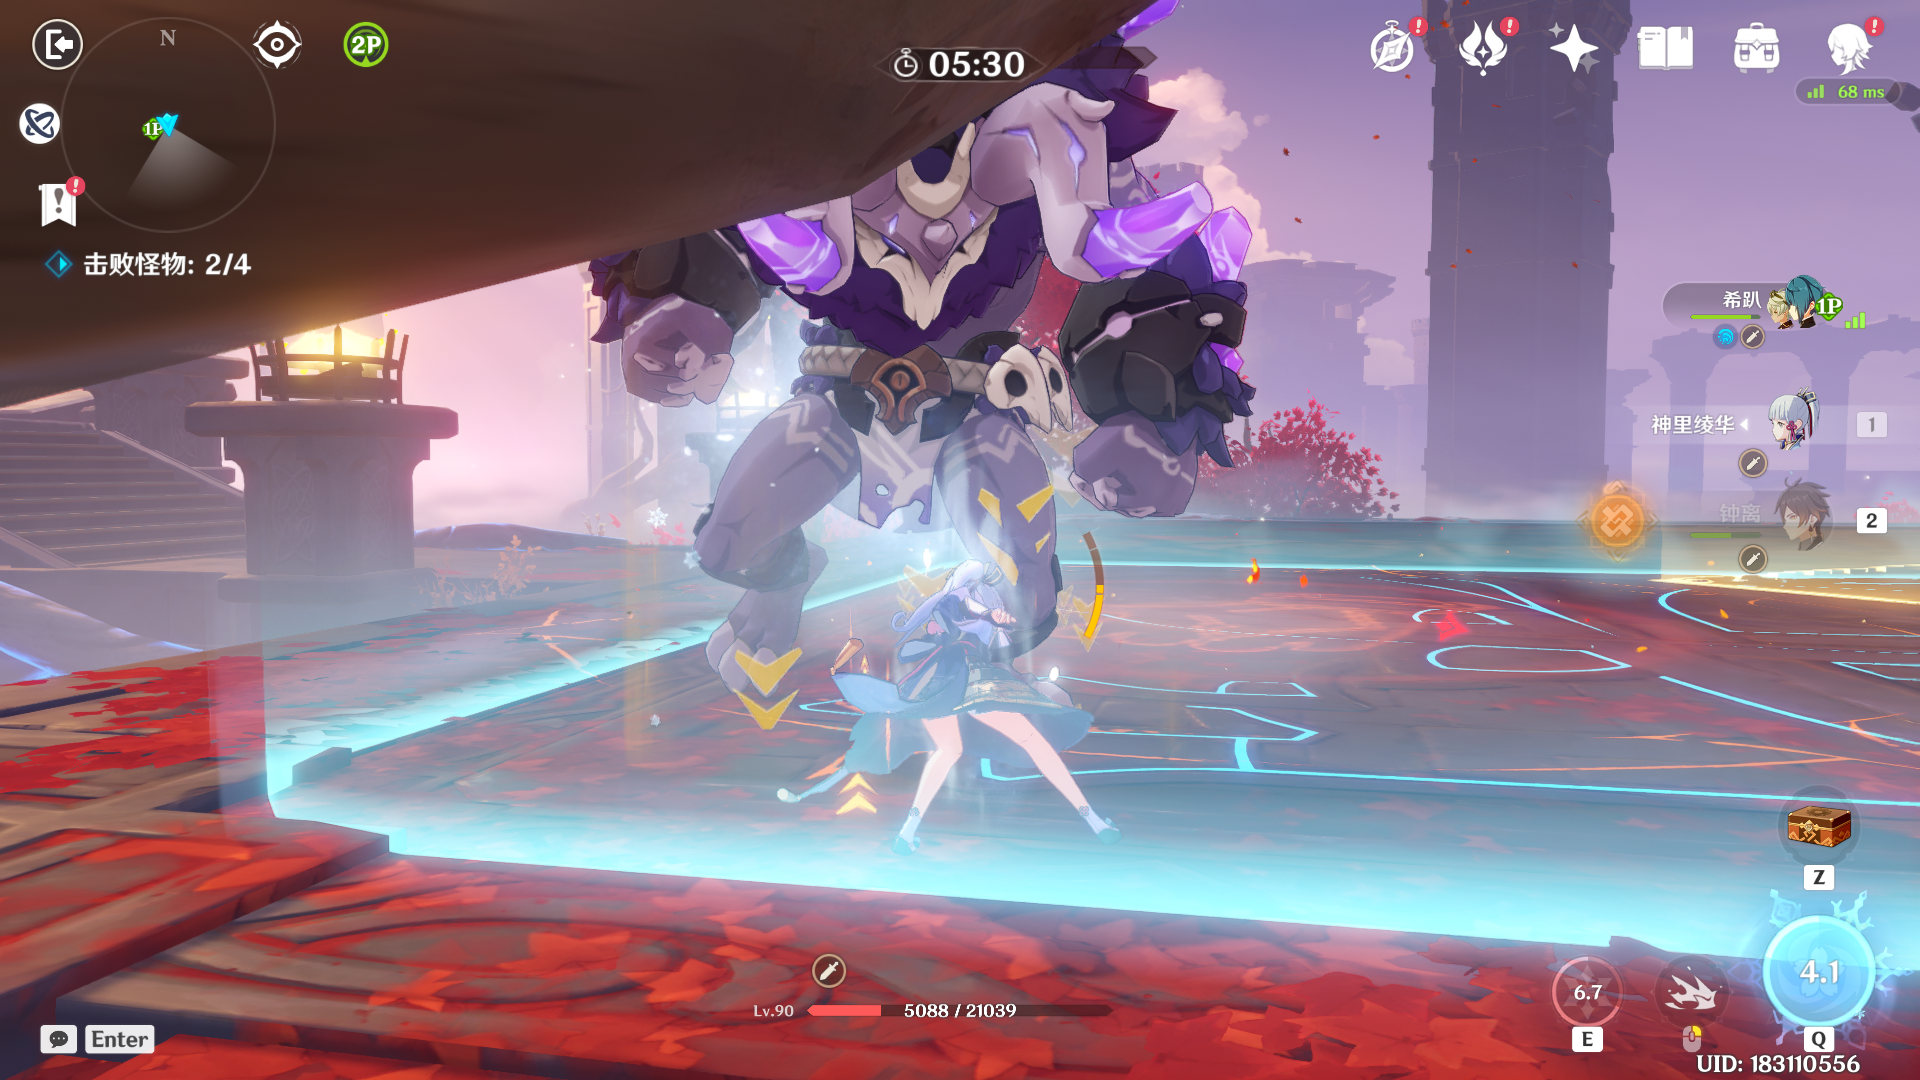bosshili: (575, 1, 1323, 766)
character: (827, 553, 1138, 891)
